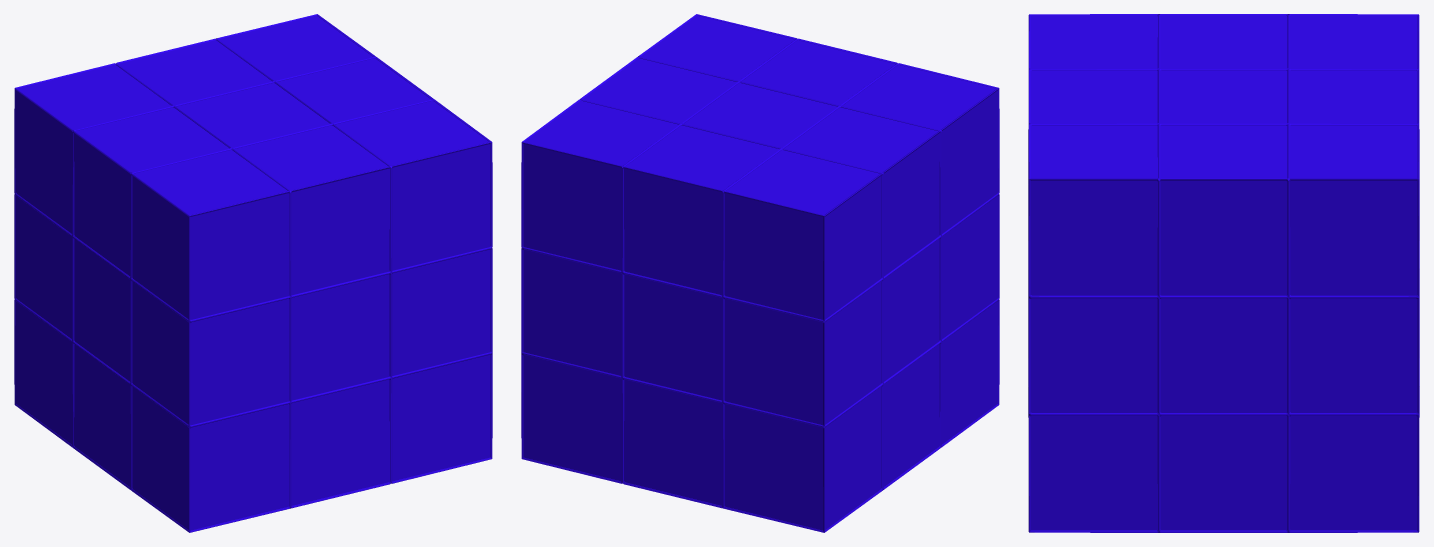
The model's file is cube-def2.glb.
3 views of the same model, side by side, from view 1: azimuth 30°, elevation 25°; view 2: azimuth 150°, elevation 25°; view 3: azimuth 270°, elevation 25° (orthographic). The views are drawn at different scales.
Visible parts, largest first — view 1: Cube; view 2: Cube; view 3: Cube.
Boxes of the visible parts, <box> form: Cube: <box>14,14,492,532</box>; Cube: <box>521,14,999,532</box>; Cube: <box>1028,14,1419,532</box>.
Bounding box in the file's own units: 2.01 × 2.01 × 2.01.
